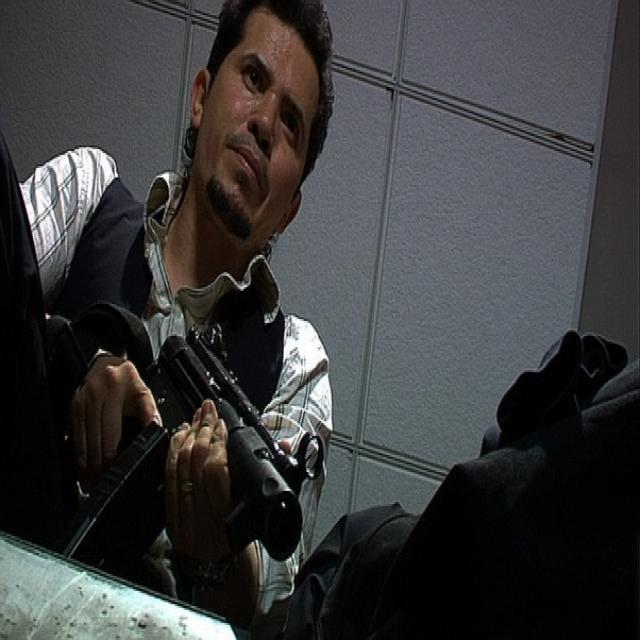rifle: (38, 315, 331, 569)
